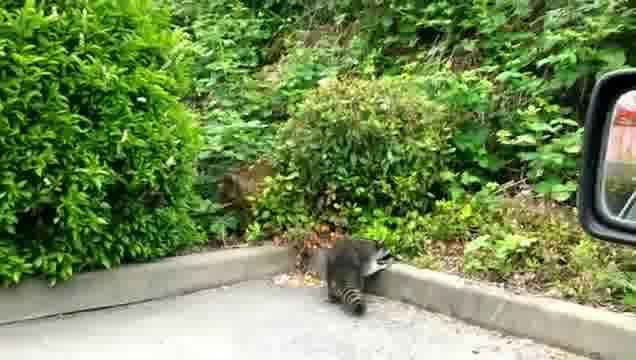raccoon: (323, 237, 396, 316)
